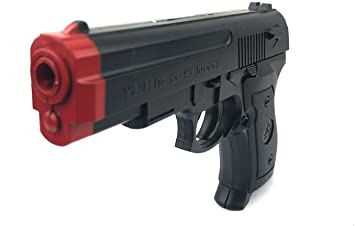Arma Falsa: (29, 2, 289, 212)
